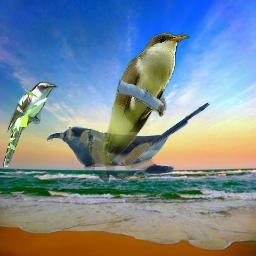Cuckoo: (47, 100, 215, 184), (98, 32, 190, 166), (3, 82, 58, 167)
